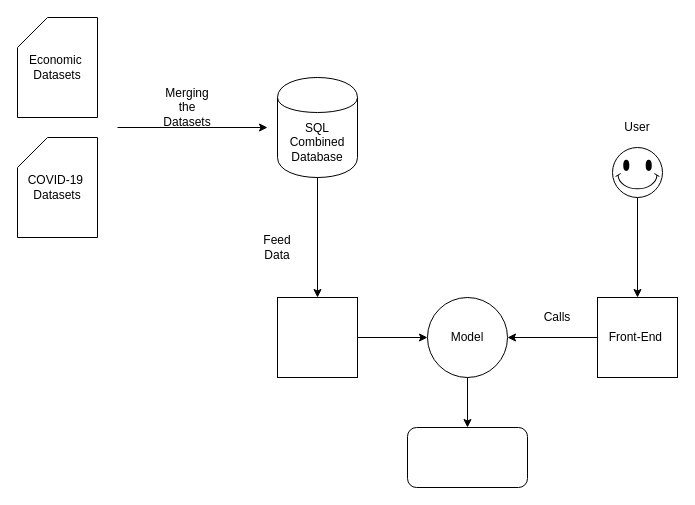
The diagram is 695 pixels wide and 505 high, and some of its shapes have lost their labels. The centre of each missing label's shape, as x and y in pixels:
"IBM Watson Machine Learning" goes at [317,337].
"Output" goes at [467,457].
